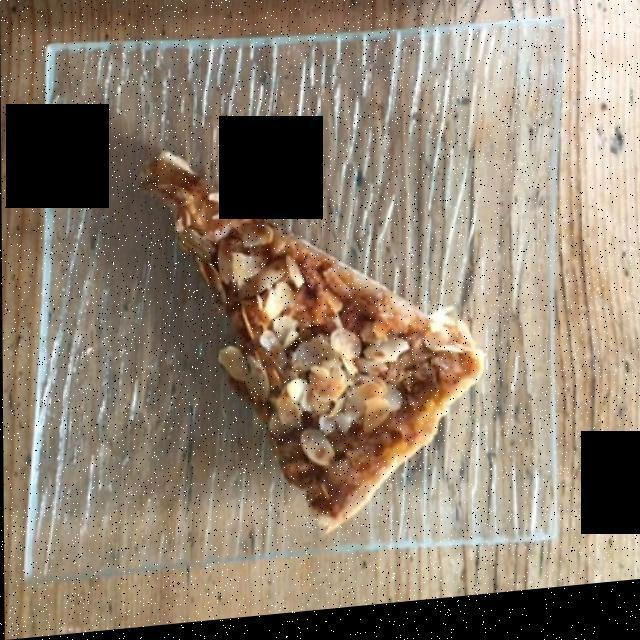almonds: (170, 208, 403, 471)
